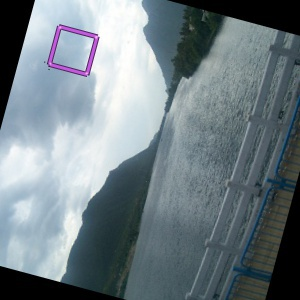square: (44, 21, 101, 81)
